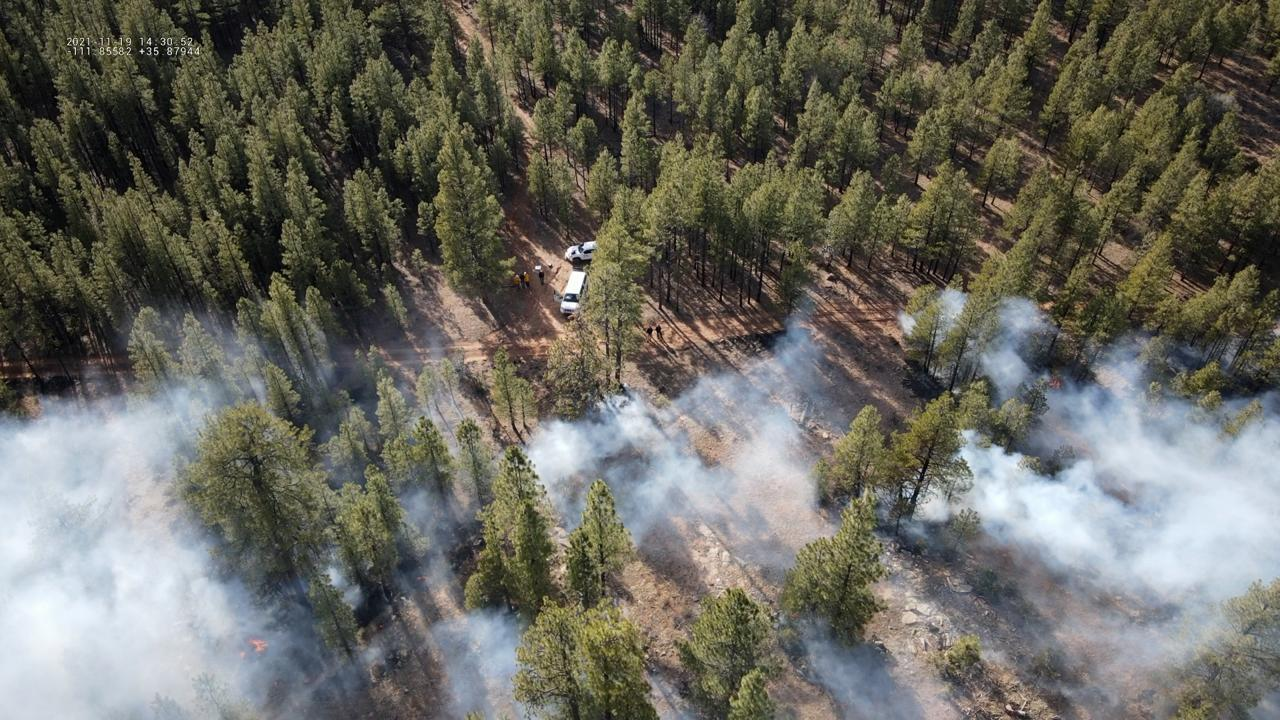fire: (248, 638, 270, 653), (1045, 374, 1063, 392), (240, 650, 246, 659)
smoke: (0, 286, 1280, 720)
